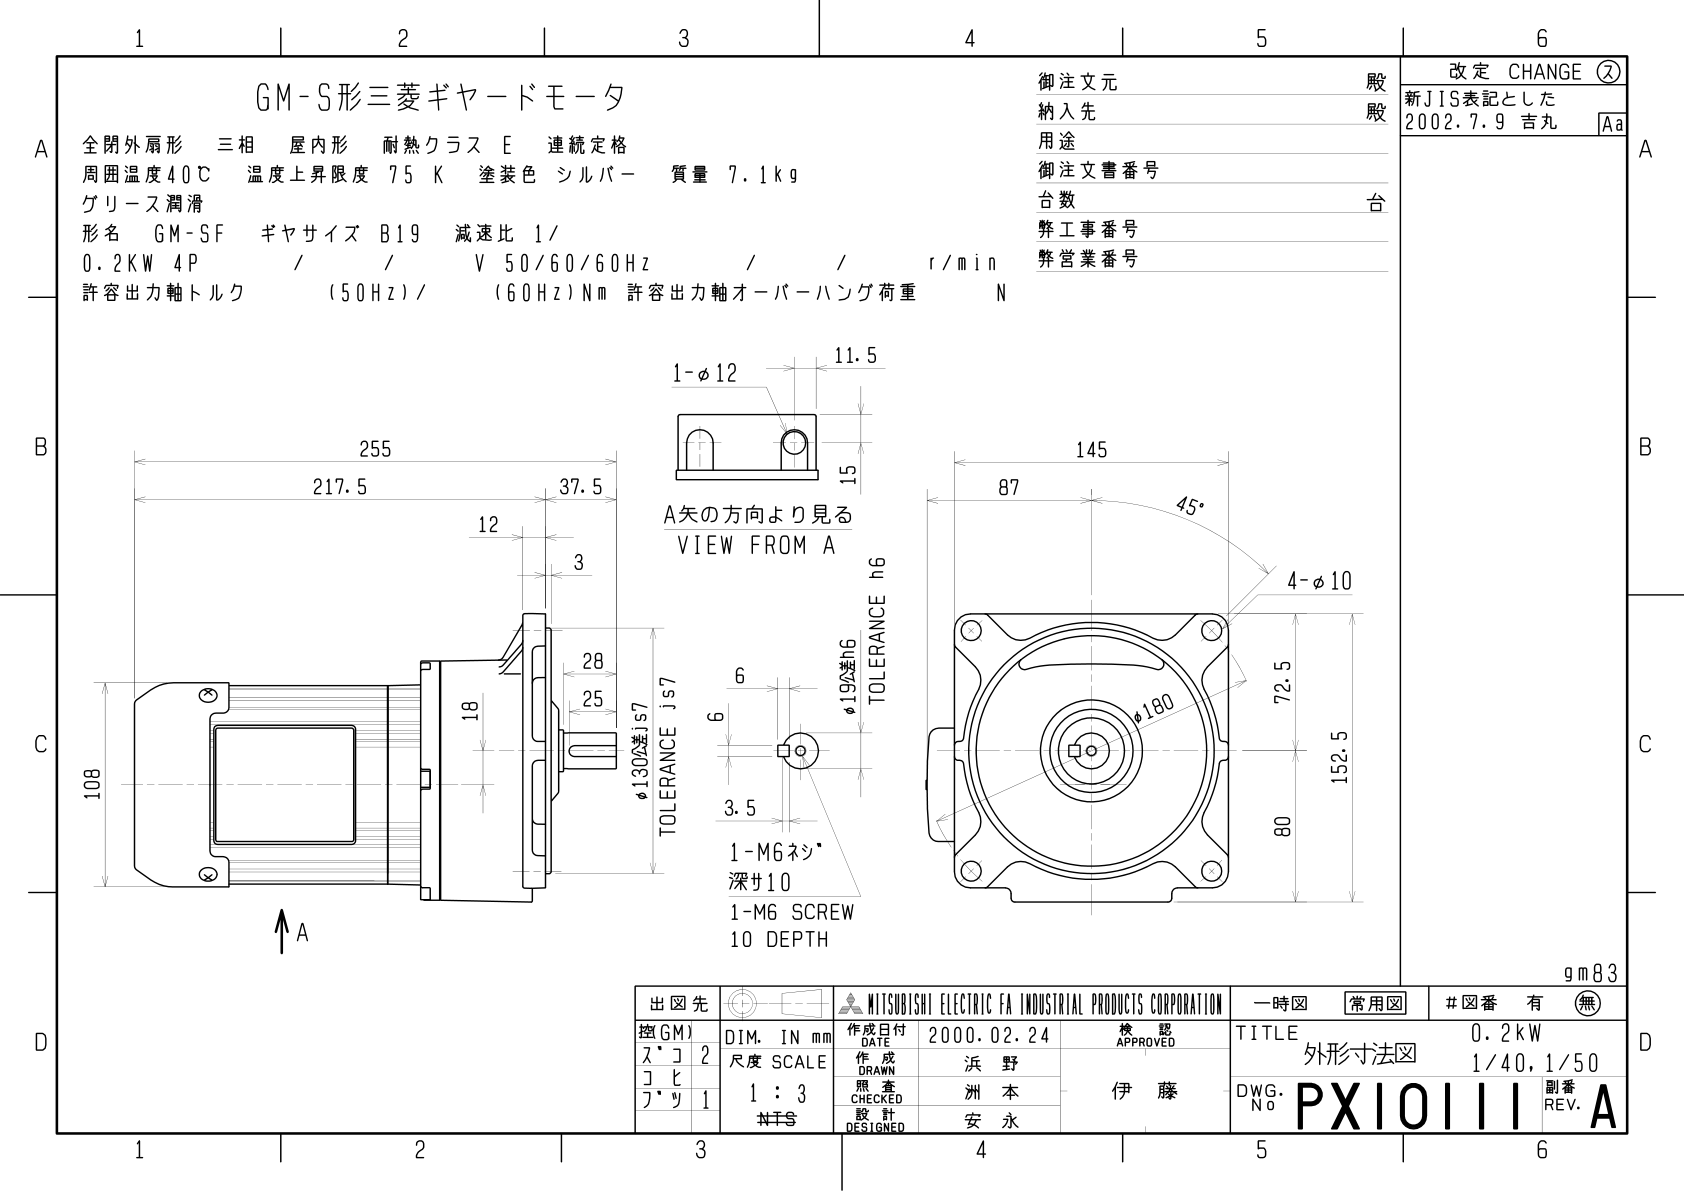GM_S_屋内＿三相_フランジ: (71, 322, 1373, 955)
